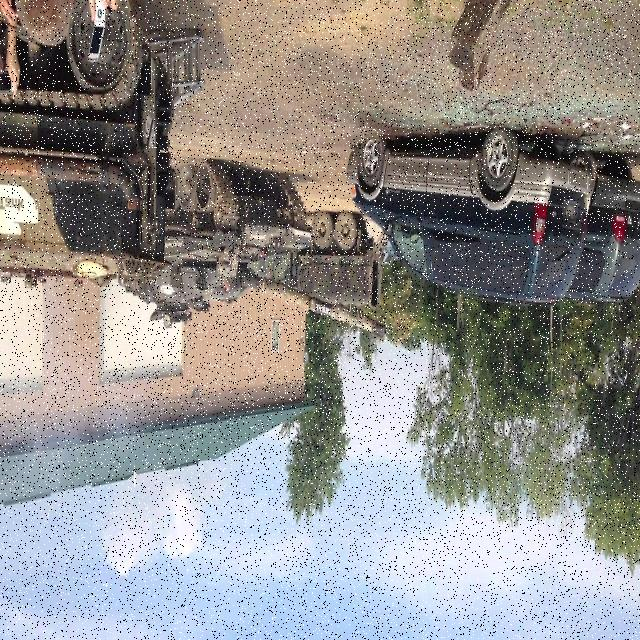MIL_MBT: (167, 145, 317, 353)
